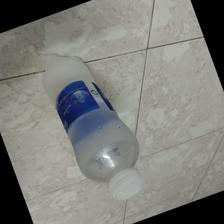Aquafina: (37, 53, 148, 203)
